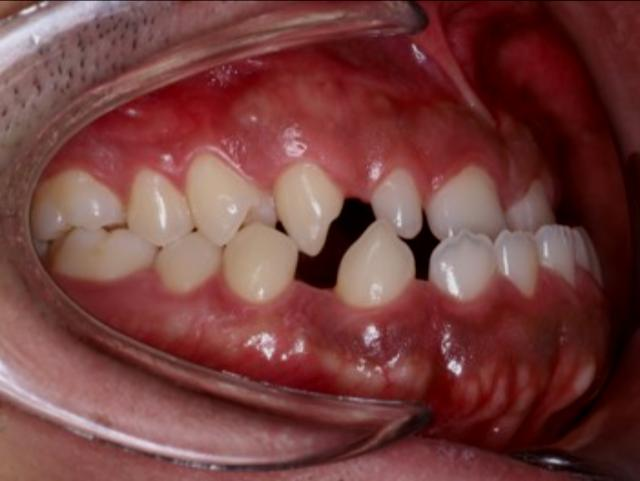canine class I: (224, 142, 420, 314)
molar class III 1/2: (26, 167, 158, 291)
